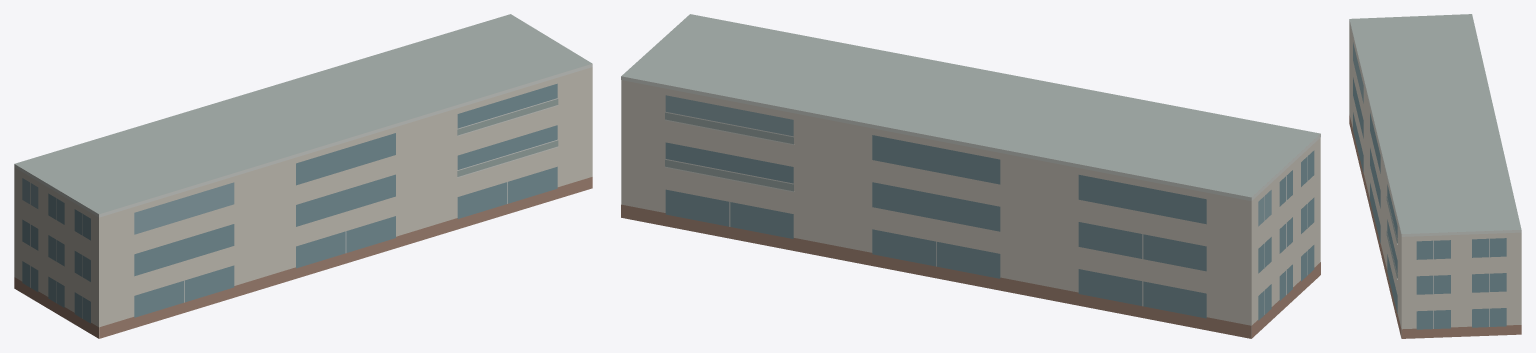
The model's file is survey-upis-32627459.glb.
3 views of the same model, side by side, from view 1: azimuth 30°, elevation 25°; view 2: azimuth 150°, elevation 25°; view 3: azimuth 270°, elevation 25° (orthographic). The views are drawn at different scales.
Visible parts, largest first — view 1: survey-upis-32627459.tmp; view 2: survey-upis-32627459.tmp; view 3: survey-upis-32627459.tmp.
Part boxes in pixels (x1=…): survey-upis-32627459.tmp: x1=14, y1=14, x2=592, y2=338; survey-upis-32627459.tmp: x1=621, y1=14, x2=1320, y2=338; survey-upis-32627459.tmp: x1=1349, y1=14, x2=1521, y2=338.
Bounding box in the file's own units: 41.24 × 9.15 × 13.64.
